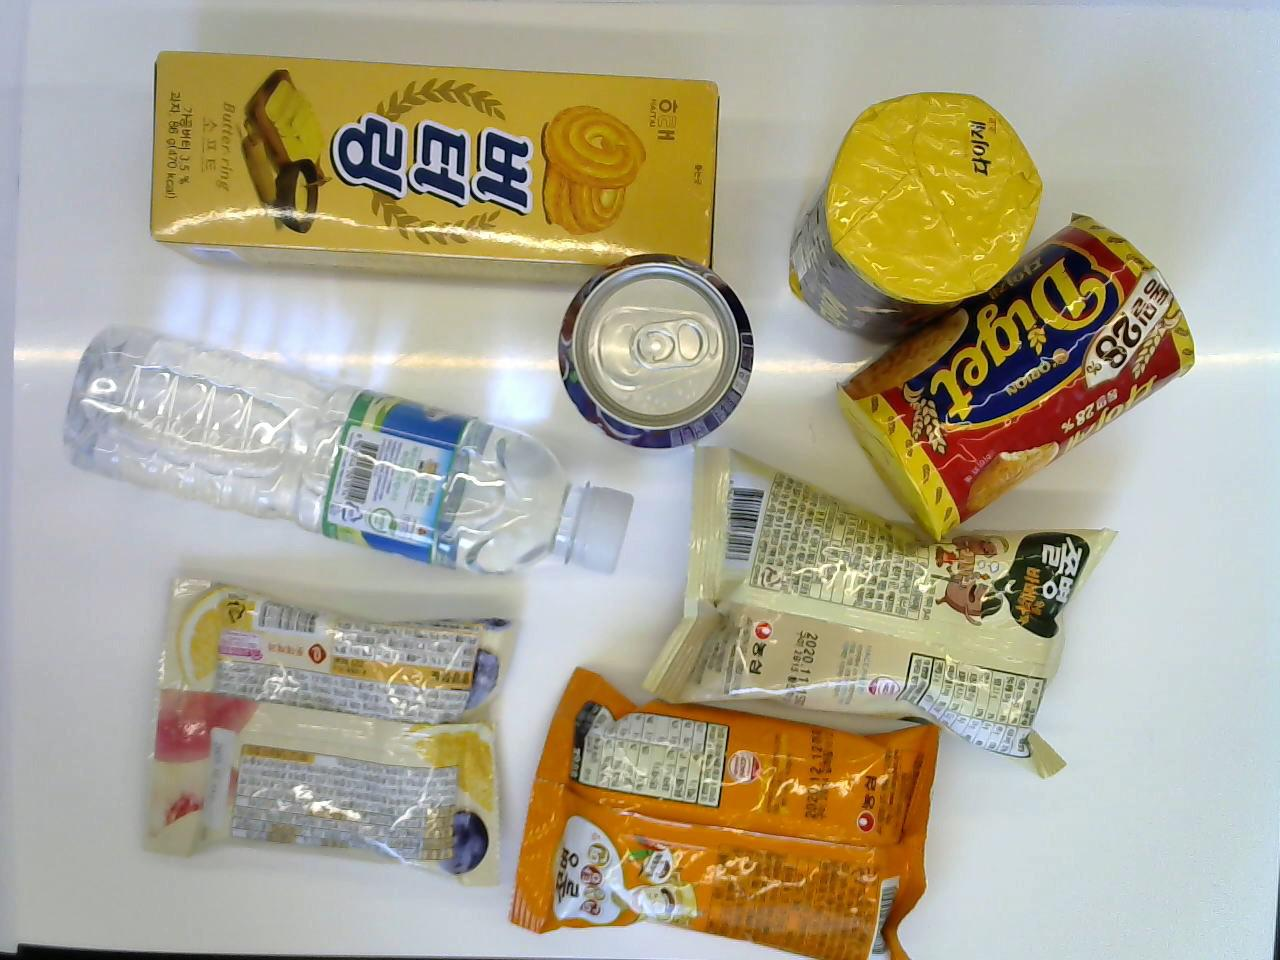buttering: (151, 49, 726, 289)
diget_choco: (783, 88, 1039, 348)
diget_ori: (835, 211, 1201, 543)
gumi_gumi: (137, 575, 519, 891)
jjolbyung_noodle: (511, 657, 947, 953)
jjolbyung_ori: (638, 443, 1121, 782)
samdasu: (61, 326, 636, 583)
welchs: (557, 255, 756, 459)
